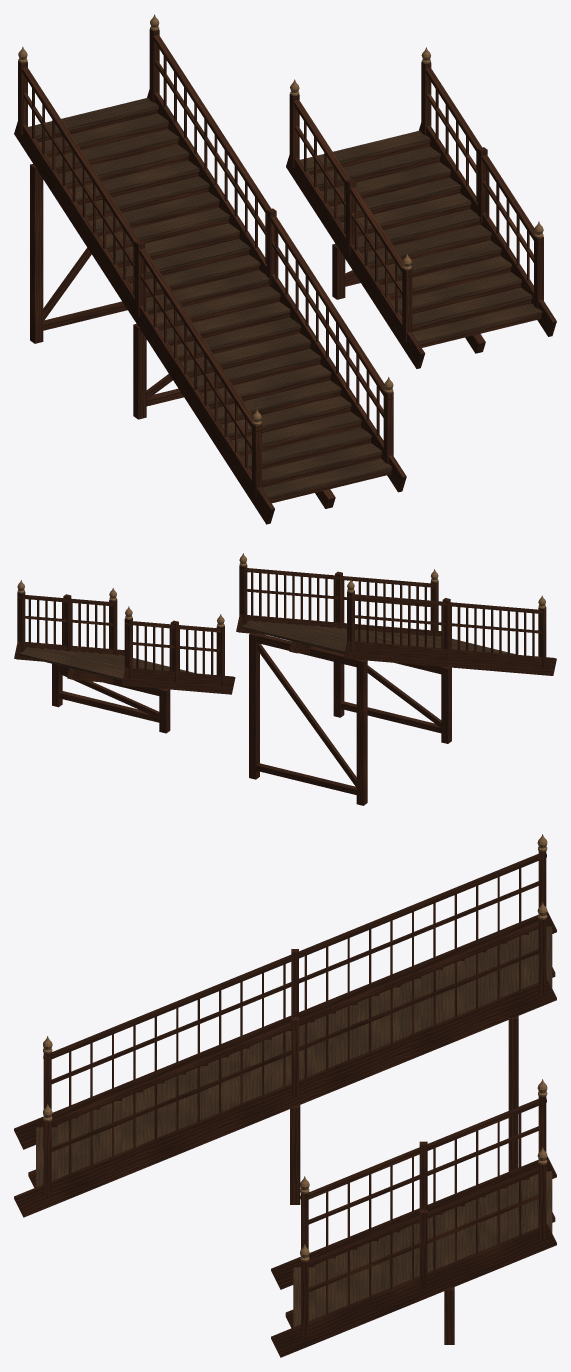
Rendered from staircase_modules.glb.
3 renders of one model, top to bottom at view 1: azimuth 30°, elevation 25°; view 2: azimuth 150°, elevation 25°; view 3: azimuth 270°, elevation 25°, orthographic. The views are drawn at different scales.
Parts seen in each view (by area): view 1: IC05_Staircase_Full__Mesh, IC05_Staircase_Half__Mesh; view 2: IC05_Staircase_Full__Mesh, IC05_Staircase_Half__Mesh; view 3: IC05_Staircase_Full__Mesh, IC05_Staircase_Half__Mesh.
Part boxes in pixels (<box>): IC05_Staircase_Full__Mesh: <box>14,14,406,524</box>; IC05_Staircase_Half__Mesh: <box>286,47,556,368</box>; IC05_Staircase_Full__Mesh: <box>236,553,556,805</box>; IC05_Staircase_Half__Mesh: <box>14,580,235,733</box>; IC05_Staircase_Full__Mesh: <box>14,834,556,1217</box>; IC05_Staircase_Half__Mesh: <box>271,1079,556,1357</box>.
Size of the model in its own units: 7.82 by 5.48 by 8.45.
Materials: 3 (2 with a texture image).
